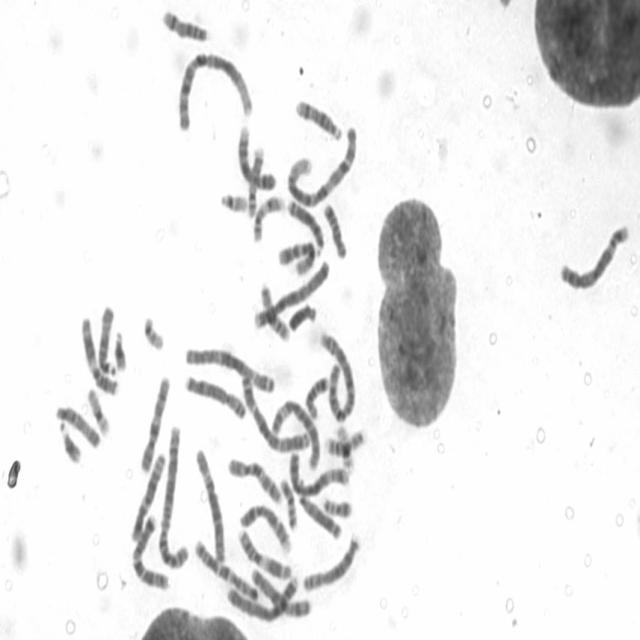A1: (176, 52, 256, 132), (285, 124, 359, 208)
A2: (157, 423, 191, 573), (320, 332, 357, 422)
A3: (240, 375, 310, 451), (184, 348, 276, 396)
B4: (253, 260, 330, 330), (227, 577, 299, 624)
B5: (560, 222, 629, 294), (288, 453, 350, 496)
C10: (139, 376, 171, 475), (226, 456, 282, 504)
C11: (80, 316, 120, 396), (238, 530, 291, 580)
C12: (131, 452, 168, 544), (278, 239, 315, 275)
C6: (192, 448, 225, 565), (270, 399, 322, 470)
C7: (191, 536, 259, 602), (130, 512, 172, 590)
C8: (302, 530, 363, 597), (182, 373, 247, 423)
C9: (236, 124, 278, 192), (240, 504, 294, 553)
D13: (299, 479, 343, 540), (287, 199, 324, 259)
D14: (293, 100, 343, 140), (162, 10, 210, 44)
D15: (54, 405, 101, 448), (98, 305, 116, 375)
E16: (259, 284, 290, 341), (325, 427, 366, 459)
E17: (252, 195, 284, 245), (248, 146, 264, 218)
E18: (321, 200, 348, 258), (305, 376, 330, 421)
F19: (86, 385, 112, 439), (336, 423, 355, 475)
F20: (277, 477, 298, 531), (322, 495, 352, 518)
G21: (58, 418, 81, 465), (113, 328, 129, 373)
G22: (141, 310, 165, 358), (217, 191, 248, 216)
X: (250, 568, 311, 616)
Y: (288, 303, 320, 335)
